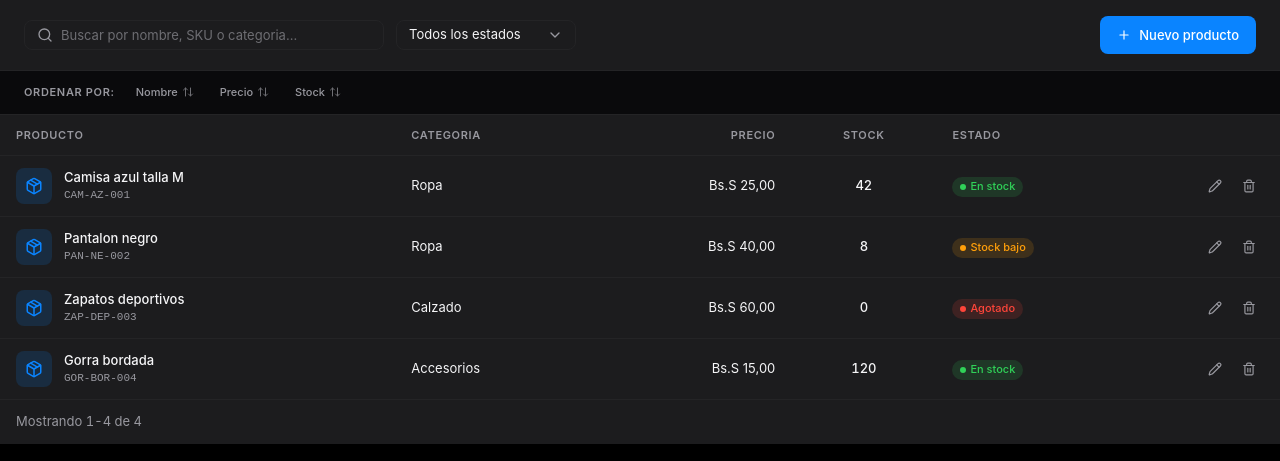
Test: ProductsList › filters products by search term
The width and height of the screenshot is (1280, 461).
Expected: the text "Camisa azul talla M" is shown, [64, 169, 184, 185]
Type "Camisa" into the field with placeholder "Buscar por nombre, SKU o categoria..." at (216, 35), box [61, 21, 371, 49]
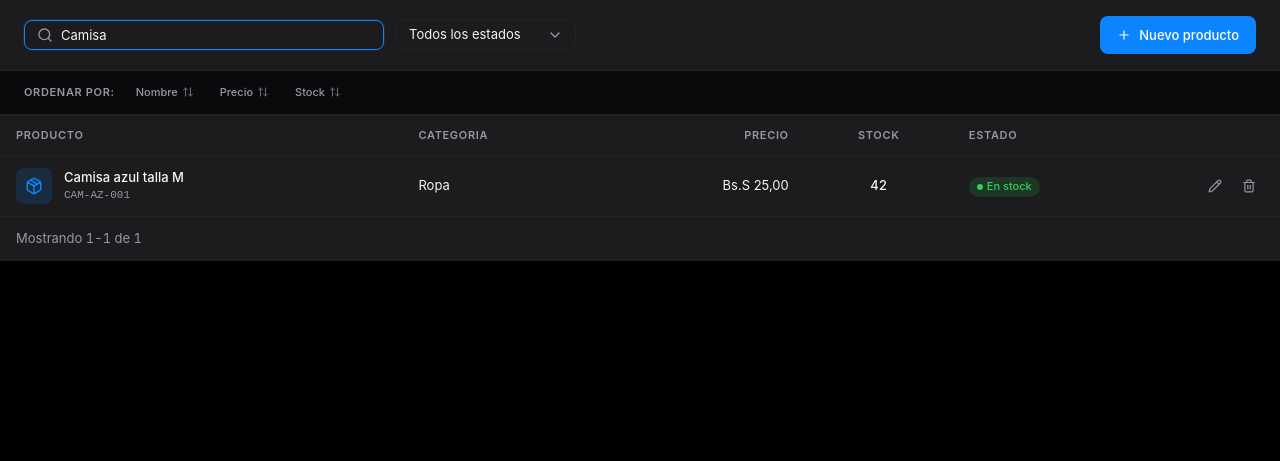
Expected: the text "Camisa azul talla M" is shown, [64, 169, 184, 185]
Expected: the text "Gorra bordada" is gone
